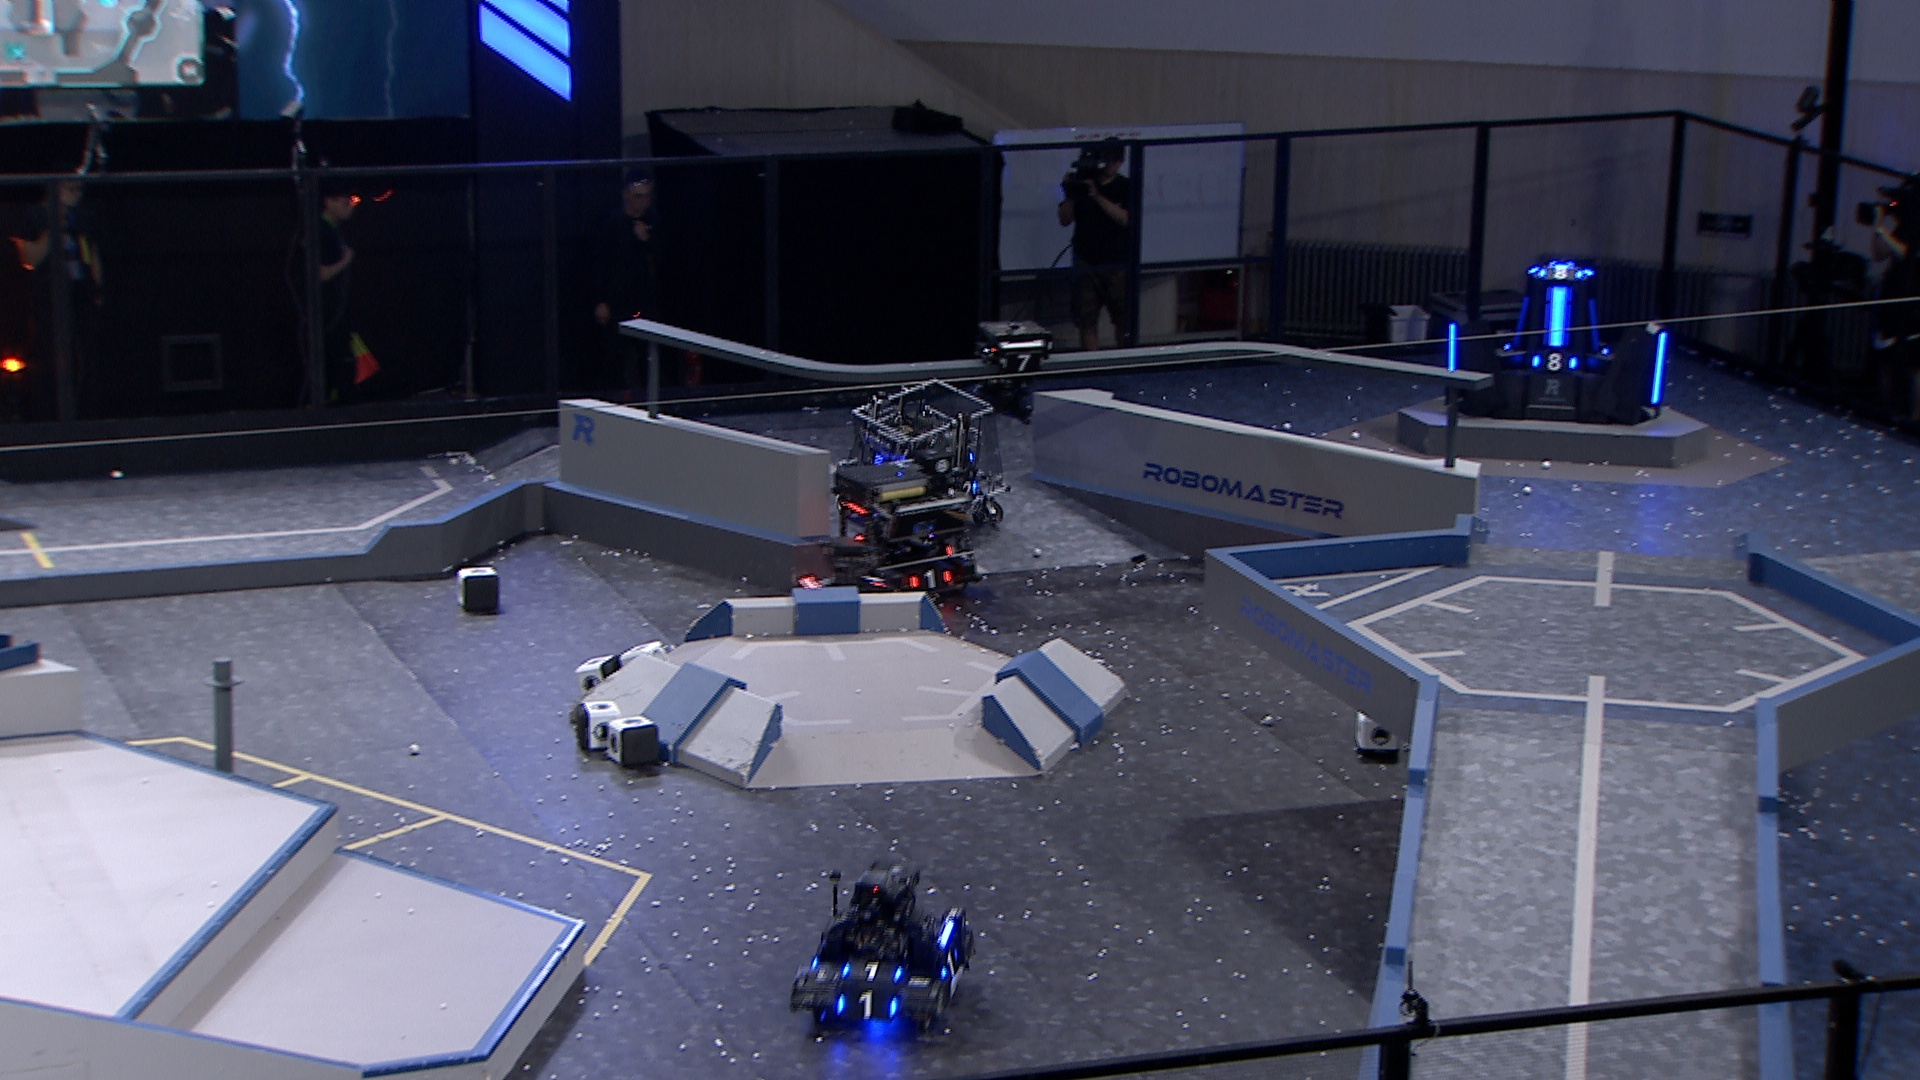armor: (832, 992, 899, 1022), (839, 957, 903, 984), (1650, 330, 1669, 407), (1545, 286, 1569, 349), (1509, 295, 1534, 353), (1528, 351, 1577, 375), (1585, 295, 1604, 353), (906, 568, 953, 591), (1538, 262, 1585, 284), (1000, 353, 1044, 375), (1444, 323, 1460, 372), (942, 949, 961, 981), (955, 481, 981, 502), (858, 572, 887, 589)
base: (1443, 262, 1669, 429)
car: (789, 858, 975, 1035), (851, 377, 1011, 538), (829, 460, 982, 609), (789, 537, 913, 641)
watcher: (972, 323, 1054, 427)
